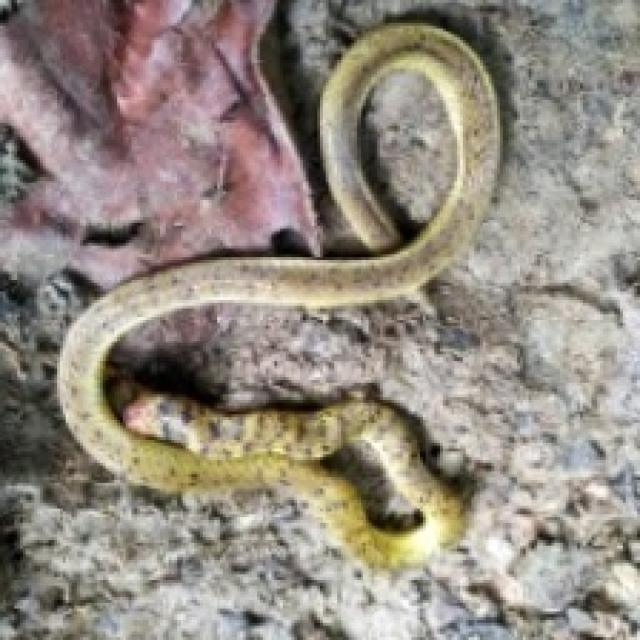luzon dwarf snake: (57, 23, 497, 566), (357, 69, 454, 243)
